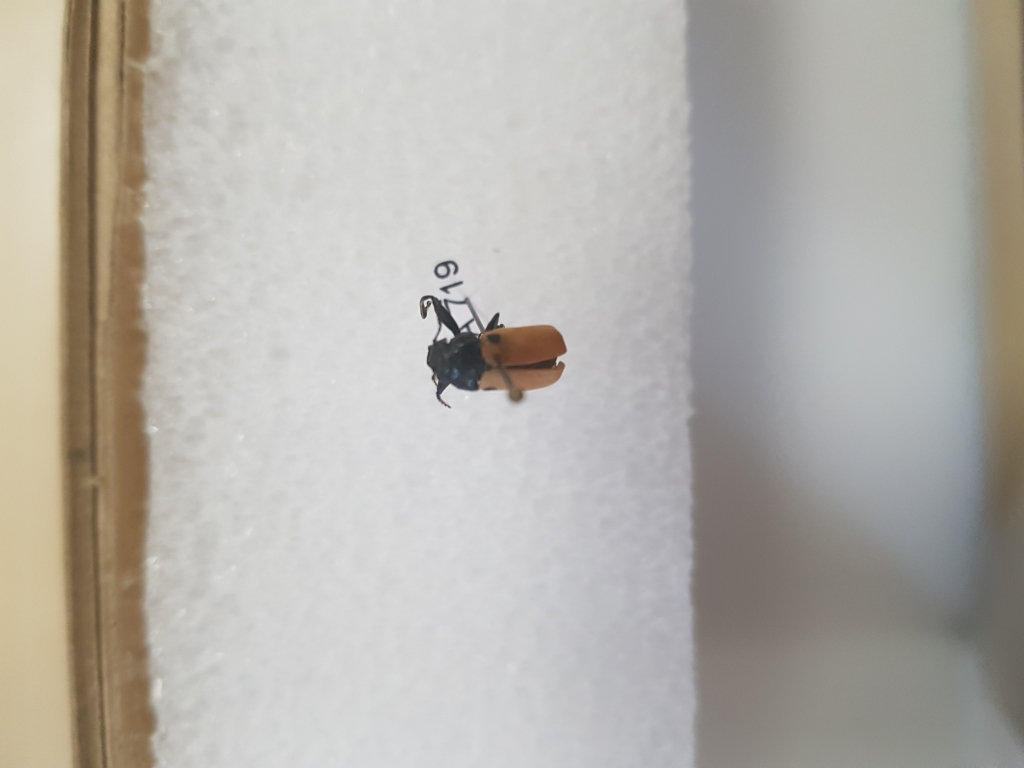Labidostomis_propinqua: (386, 292, 579, 404)
